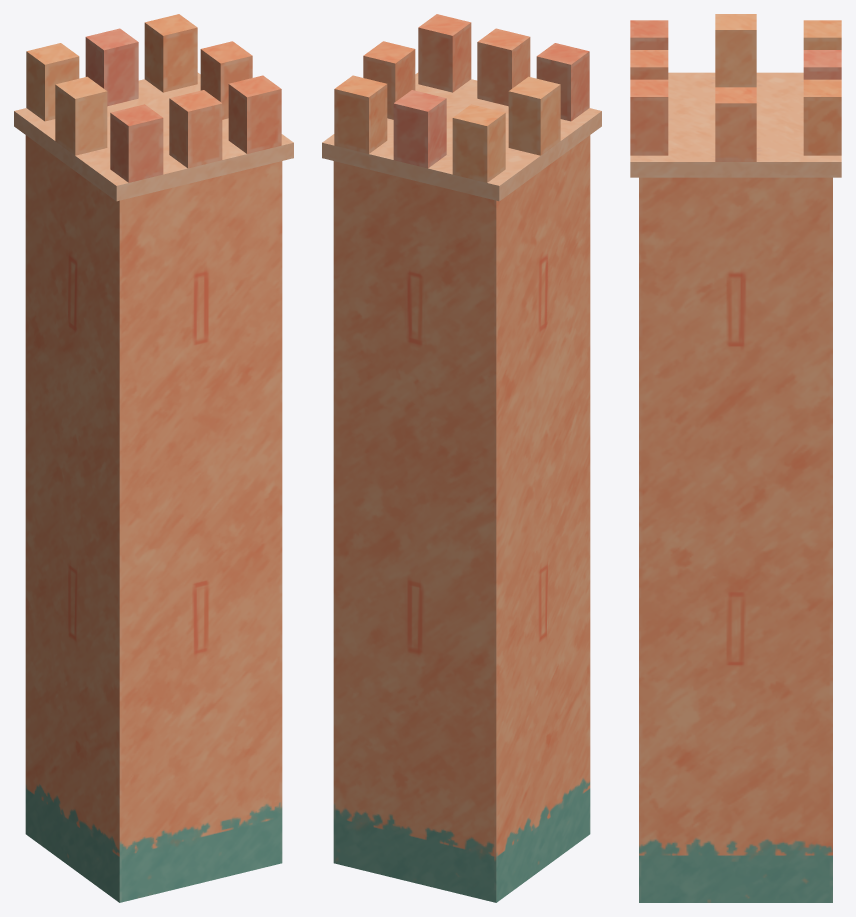
File: townwall_tower.bundle.fbx
3 views of the same model, side by side, from view 1: azimuth 30°, elevation 25°; view 2: azimuth 150°, elevation 25°; view 3: azimuth 270°, elevation 25° (orthographic). The views are drawn at different scales.
Visible parts, largest first — view 1: townwall_tower, townwall_tower_s13, townwall_tower_low, townwall_tower_s04, townwall_tower_s01, townwall_tower_s02, townwall_tower_s10, townwall_tower_s09, townwall_tower_s00, townwall_tower_s12, townwall_tower_s07, townwall_tower_s08; view 2: townwall_tower, townwall_tower_s12, townwall_tower_s06, townwall_tower_low, townwall_tower_s05, townwall_tower_s01, townwall_tower_s09, townwall_tower_s07, townwall_tower_s03, townwall_tower_s02, townwall_tower_s04, townwall_tower_s10 (+2 smaller); view 3: townwall_tower, townwall_tower_s01, townwall_tower_s06, townwall_tower_s00, townwall_tower_s05, townwall_tower_s13, townwall_tower_s08, townwall_tower_low, townwall_tower_s04, townwall_tower_s11, townwall_tower_s10, townwall_tower_s03 (+1 smaller).
Part boxes in pixels (x1=…): townwall_tower: x1=14, y1=15, x2=293, y2=902; townwall_tower_s13: x1=114, y1=583, x2=282, y2=807; townwall_tower_low: x1=26, y1=14, x2=281, y2=182; townwall_tower_s04: x1=28, y1=287, x2=282, y2=493; townwall_tower_s01: x1=25, y1=740, x2=282, y2=902; townwall_tower_s02: x1=65, y1=468, x2=203, y2=701; townwall_tower_s10: x1=56, y1=32, x2=279, y2=259; townwall_tower_s09: x1=39, y1=220, x2=241, y2=401; townwall_tower_s00: x1=153, y1=438, x2=282, y2=632; townwall_tower_s12: x1=29, y1=462, x2=203, y2=792; townwall_tower_s07: x1=14, y1=30, x2=140, y2=287; townwall_tower_s08: x1=121, y1=31, x2=293, y2=293; townwall_tower: x1=322, y1=15, x2=601, y2=902; townwall_tower_s12: x1=397, y1=479, x2=590, y2=756; townwall_tower_s06: x1=333, y1=307, x2=520, y2=504; townwall_tower_low: x1=334, y1=14, x2=589, y2=182; townwall_tower_s05: x1=333, y1=493, x2=534, y2=797; townwall_tower_s01: x1=334, y1=709, x2=590, y2=861; townwall_tower_s09: x1=500, y1=166, x2=590, y2=396; townwall_tower_s07: x1=388, y1=103, x2=563, y2=331; townwall_tower_s03: x1=333, y1=178, x2=496, y2=362; townwall_tower_s02: x1=534, y1=421, x2=590, y2=633; townwall_tower_s04: x1=505, y1=333, x2=590, y2=479; townwall_tower_s10: x1=401, y1=30, x2=601, y2=184; townwall_tower: x1=630, y1=15, x2=841, y2=902; townwall_tower_s01: x1=639, y1=722, x2=832, y2=902; townwall_tower_s06: x1=644, y1=301, x2=832, y2=520; townwall_tower_s00: x1=639, y1=463, x2=823, y2=615; townwall_tower_s05: x1=703, y1=520, x2=832, y2=735; townwall_tower_s13: x1=639, y1=613, x2=749, y2=825; townwall_tower_s08: x1=630, y1=66, x2=841, y2=315; townwall_tower_low: x1=630, y1=14, x2=841, y2=161; townwall_tower_s04: x1=639, y1=316, x2=738, y2=470; townwall_tower_s11: x1=671, y1=820, x2=832, y2=902; townwall_tower_s10: x1=632, y1=31, x2=828, y2=148; townwall_tower_s03: x1=738, y1=230, x2=832, y2=327.
Bounding box in the file's own units: 7.2 × 30.2 × 7.2.
Materials: 1 (1 with a texture image).
